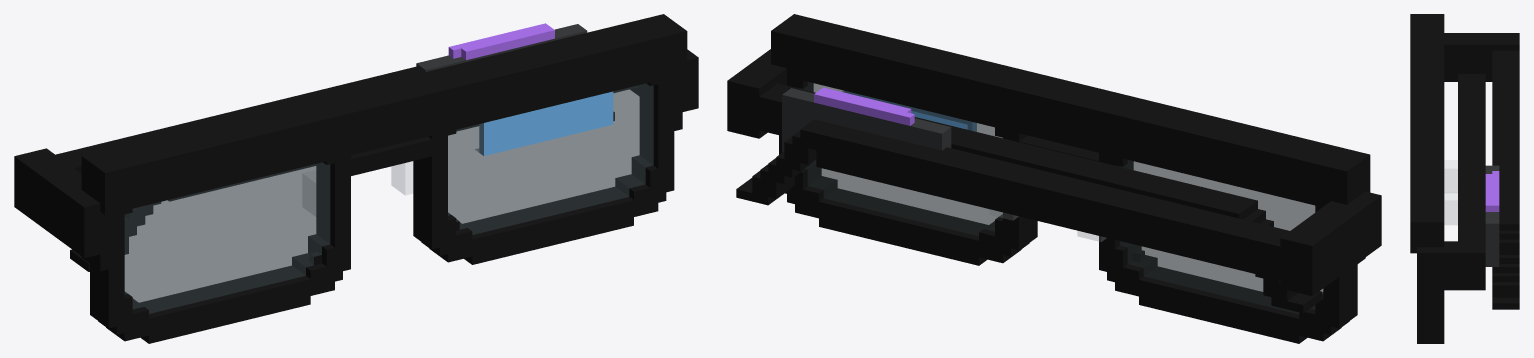
Rendered from crystal_sight_glasses.glb.
The picture shows the model from 3 angles, left to right: view 1: azimuth 30°, elevation 25°; view 2: azimuth 150°, elevation 25°; view 3: azimuth 270°, elevation 25°; orthographic projection. The views are drawn at different scales.
Parts seen in each view (by area): view 1: crystal_sight_glasses:compound; view 2: crystal_sight_glasses:compound; view 3: crystal_sight_glasses:compound.
Part boxes in pixels (x1=…): crystal_sight_glasses:compound: x1=14, y1=14, x2=698, y2=343; crystal_sight_glasses:compound: x1=727, y1=14, x2=1381, y2=343; crystal_sight_glasses:compound: x1=1410, y1=14, x2=1519, y2=343.
Bounding box in the file's own units: 0.152 × 0.044 × 0.032.
